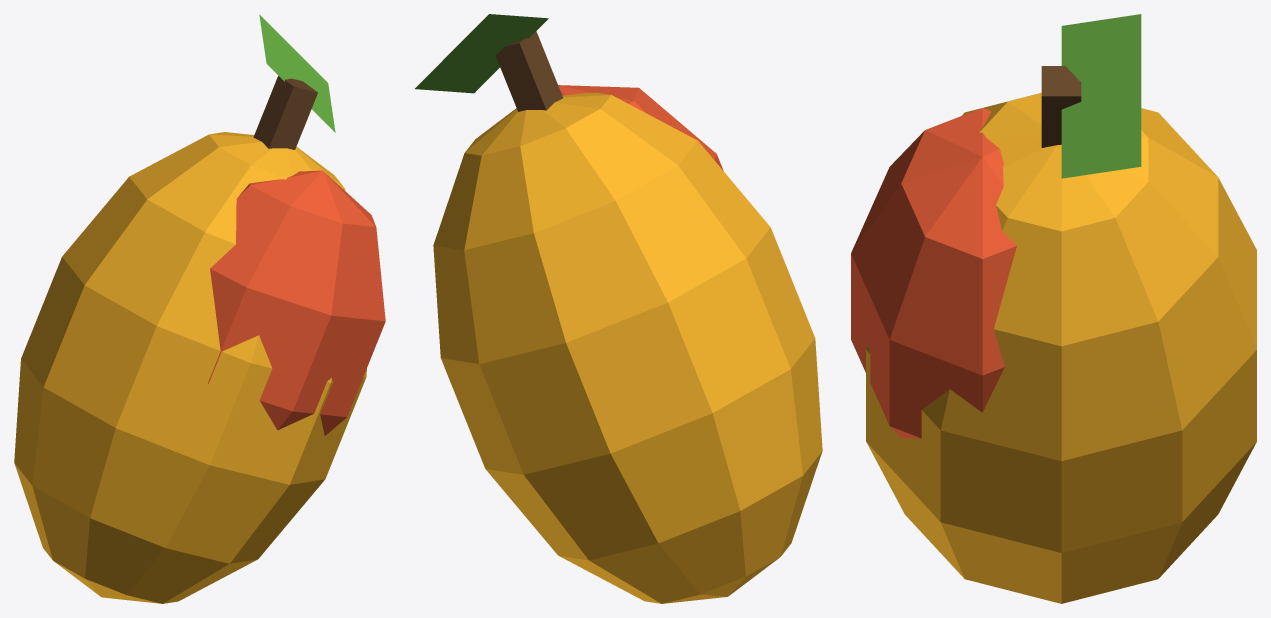
File: mango_item.obj
3 renders of one model, left to right at view 1: azimuth 30°, elevation 25°; view 2: azimuth 150°, elevation 25°; view 3: azimuth 270°, elevation 25°, orthographic. The views are drawn at different scales.
Visible parts, largest first — view 1: item; view 2: item; view 3: item.
Part boxes in pixels (bbox=[...]): item: bbox=[14, 14, 385, 603]; item: bbox=[415, 14, 822, 603]; item: bbox=[851, 14, 1256, 603].
Size of the model in its own units: 0.3659 by 0.5578 by 0.3083.
